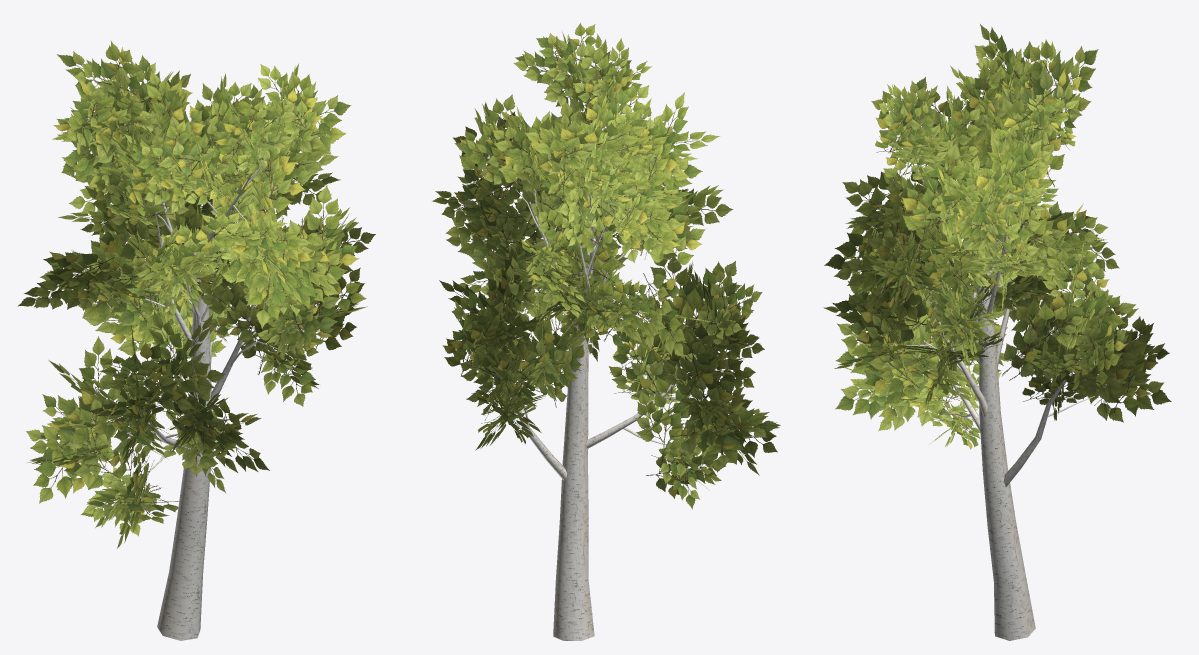
File: nature-white-silver-birch_v3.glb
The picture shows the model from 3 angles, left to right: view 1: azimuth 30°, elevation 25°; view 2: azimuth 150°, elevation 25°; view 3: azimuth 270°, elevation 25°; orthographic projection. The views are drawn at different scales.
Parts seen in each view (by area): view 1: nature-white-silver-birch; view 2: nature-white-silver-birch; view 3: nature-white-silver-birch.
Boxes of the visible parts, box(x1,y1,x2,y2) form: nature-white-silver-birch: box(18, 41, 375, 640); nature-white-silver-birch: box(432, 23, 780, 640); nature-white-silver-birch: box(823, 24, 1171, 640).
Size of the model in its own units: 4.97 by 8.13 by 4.69.
Materials: 2 (2 with a texture image).
